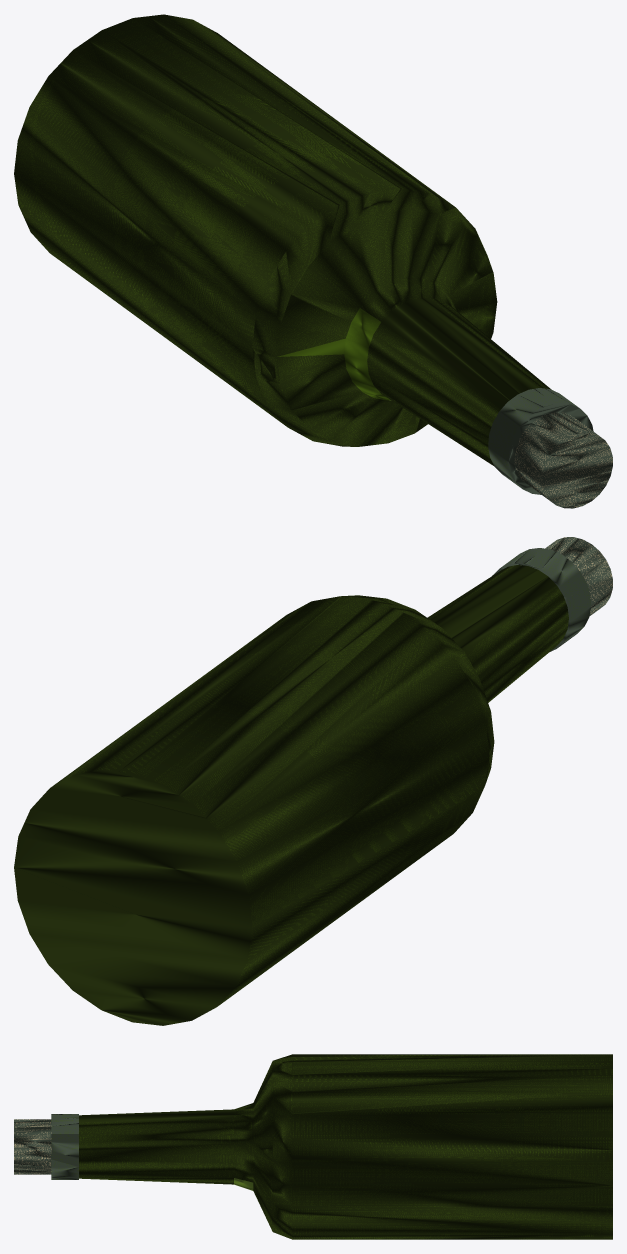
File: model_align.obj
3 views of the same model, one above another, from view 1: azimuth 30°, elevation 25°; view 2: azimuth 150°, elevation 25°; view 3: azimuth 270°, elevation 25° (orthographic). The views are drawn at different scales.
Size of the model in its own units: 0.063 by 0.063 by 0.2025.
